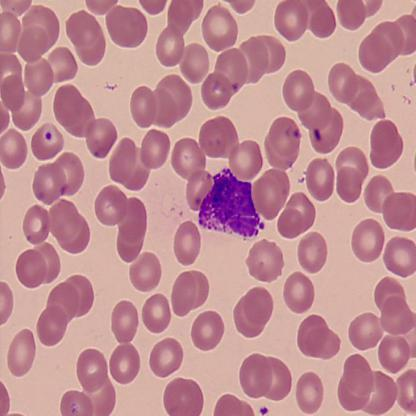Basophil: (195, 164, 266, 245)
